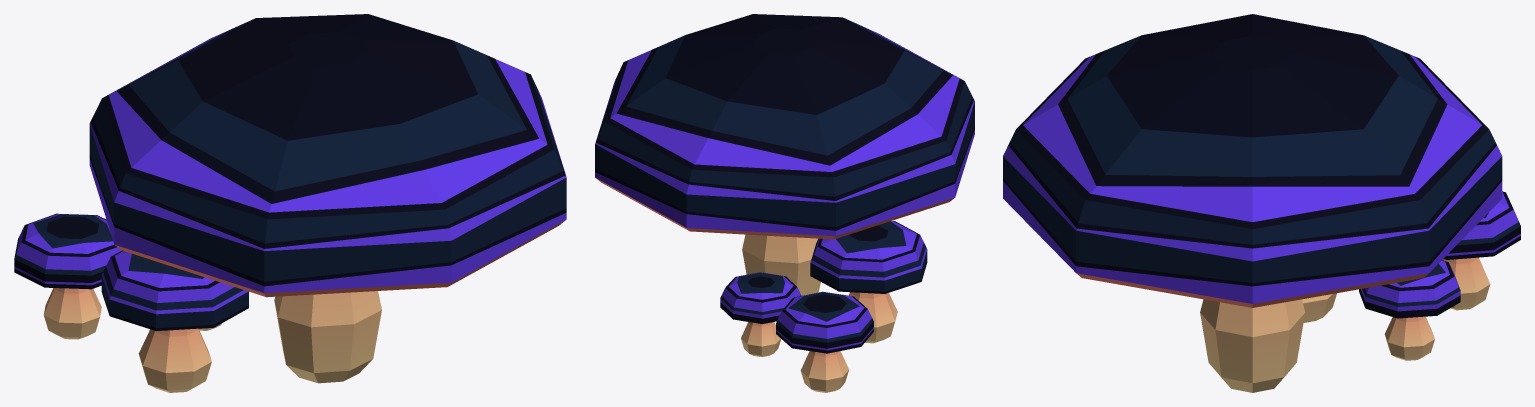
The model's file is Garden_WideShroom03.fbx.
3 renders of one model, left to right at view 1: azimuth 30°, elevation 25°; view 2: azimuth 150°, elevation 25°; view 3: azimuth 270°, elevation 25°, orthographic. The views are drawn at different scales.
Parts seen in each view (by area): view 1: Cylinder.315, Cylinder.323; view 2: Cylinder.315, Cylinder.323; view 3: Cylinder.315, Cylinder.323.
Boxes of the visible parts, left/top/right/bottom form: Cylinder.315: left=89, top=14, right=566, bottom=383; Cylinder.323: left=14, top=213, right=248, bottom=392; Cylinder.315: left=595, top=14, right=974, bottom=295; Cylinder.323: left=720, top=221, right=927, bottom=392; Cylinder.315: left=1003, top=14, right=1502, bottom=392; Cylinder.323: left=1302, top=191, right=1520, bottom=360.
Size of the model in its own units: 102 by 73.54 by 106.
